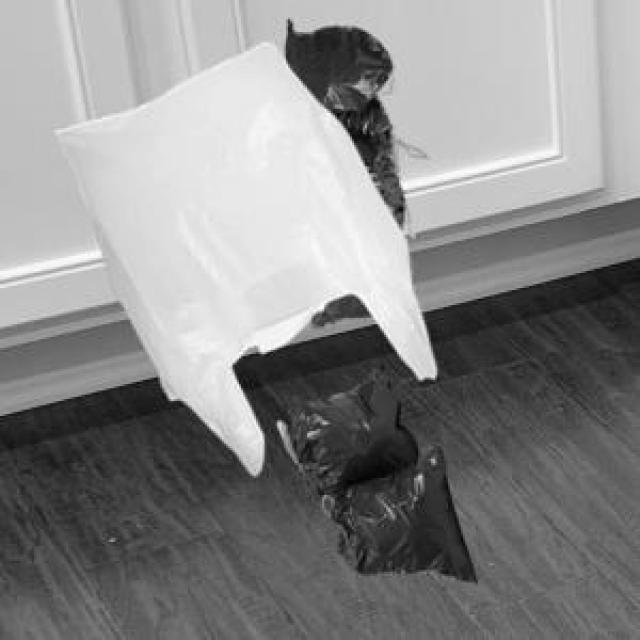miscellaneous trash: (273, 363, 472, 578), (282, 15, 401, 324)
